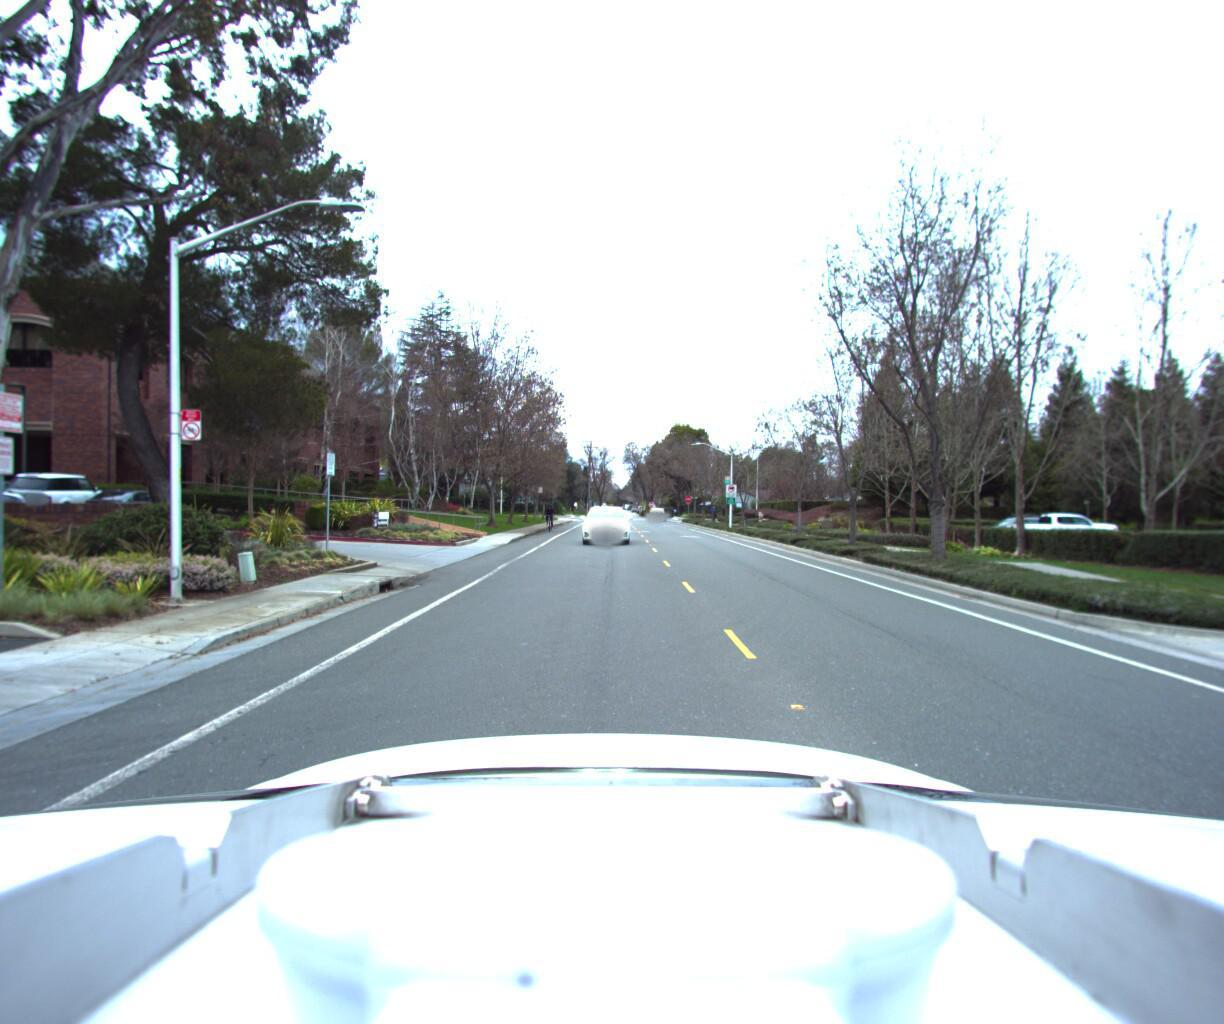bicycle: (543, 501, 557, 531)
car: (582, 505, 632, 547)
